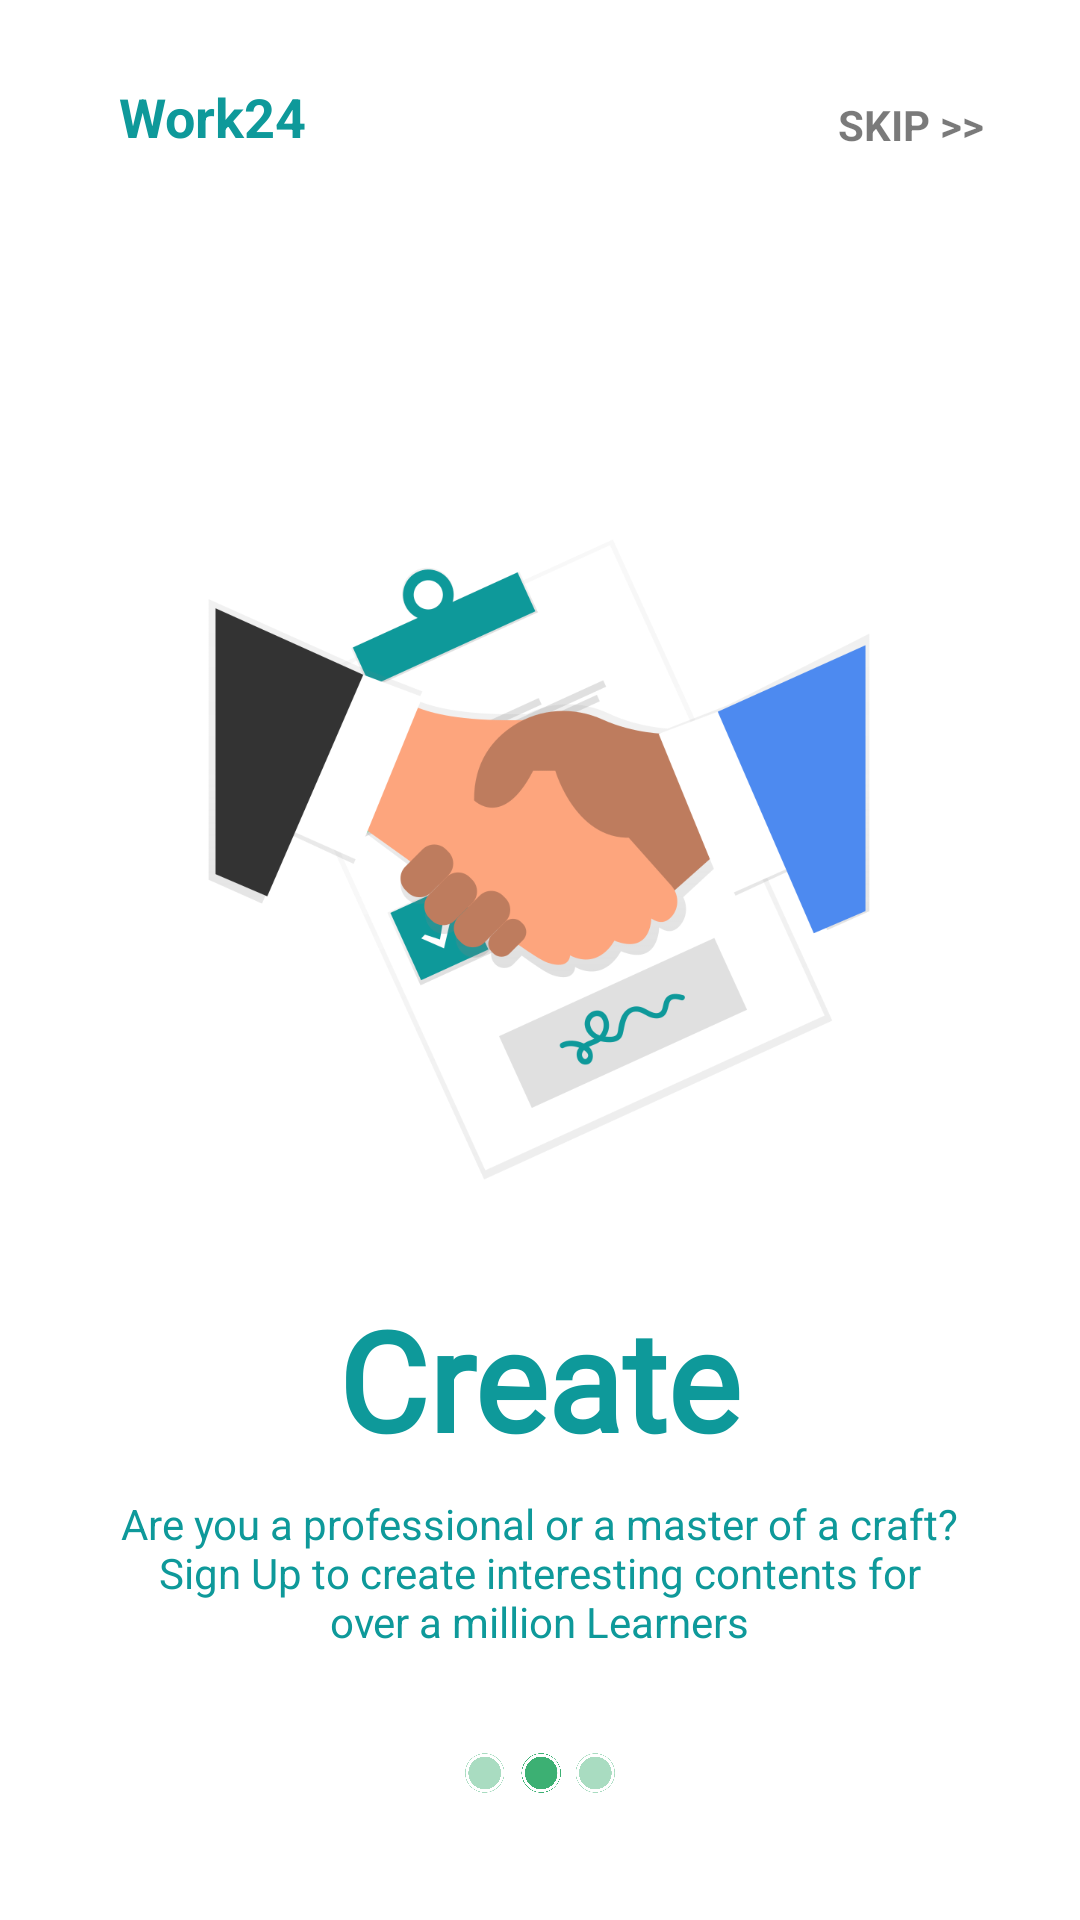

Where to tap for icons on this 1080px×1920px app screen, as point (x, y):
indicator two: point (540, 1773)
